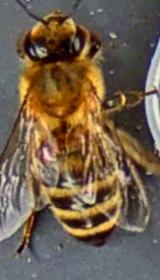varroa_mite: (29, 138, 64, 168)
